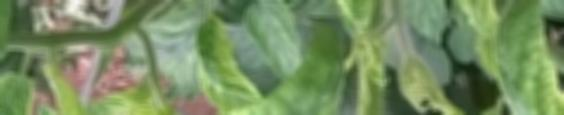Tomato leaf yellow virus: (186, 24, 348, 115), (483, 0, 564, 115)
